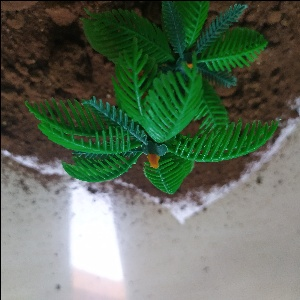plant: (8, 56, 277, 195), (77, 7, 271, 92)
